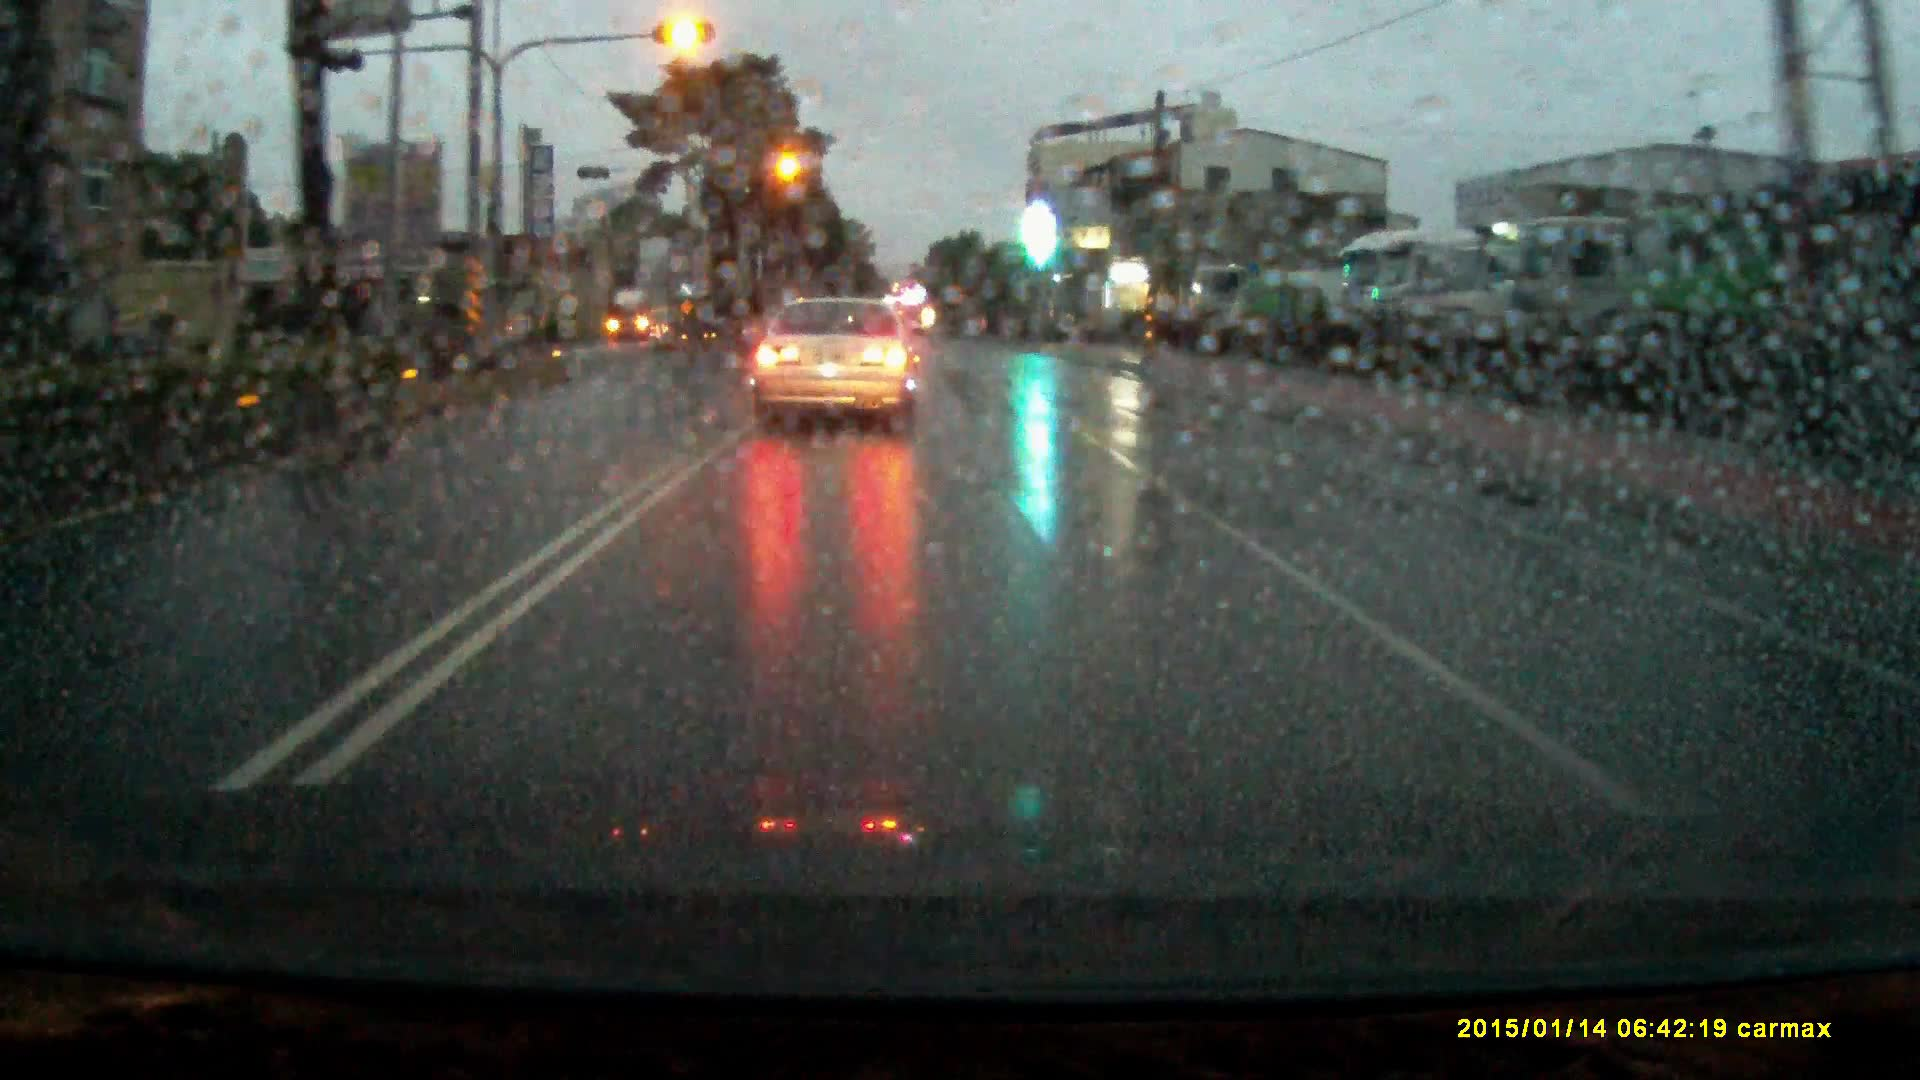vehicle: (1640, 199, 1780, 422), (752, 297, 923, 431), (1513, 212, 1635, 398), (1404, 227, 1511, 369), (1338, 237, 1428, 345), (1226, 272, 1365, 334), (1189, 265, 1254, 330), (611, 287, 670, 342)
